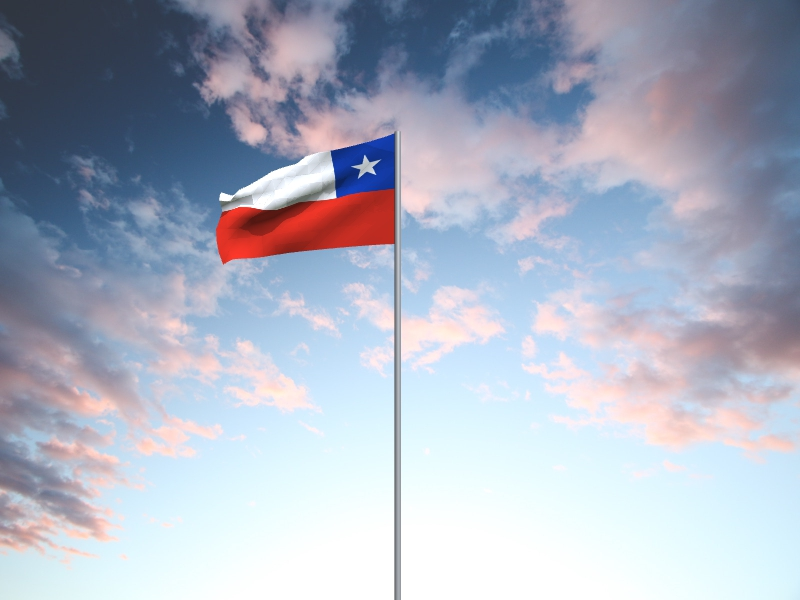cl: (215, 135, 395, 267)
